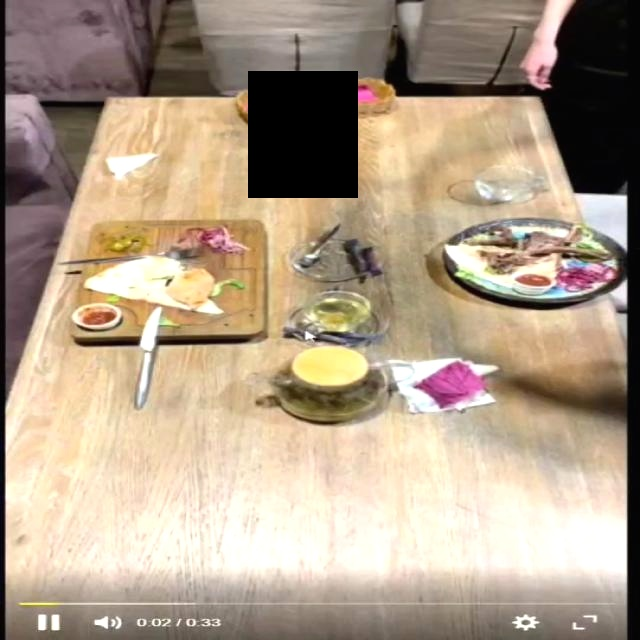meat: (69, 219, 267, 342), (426, 207, 622, 330)
tea: (270, 345, 386, 423)
